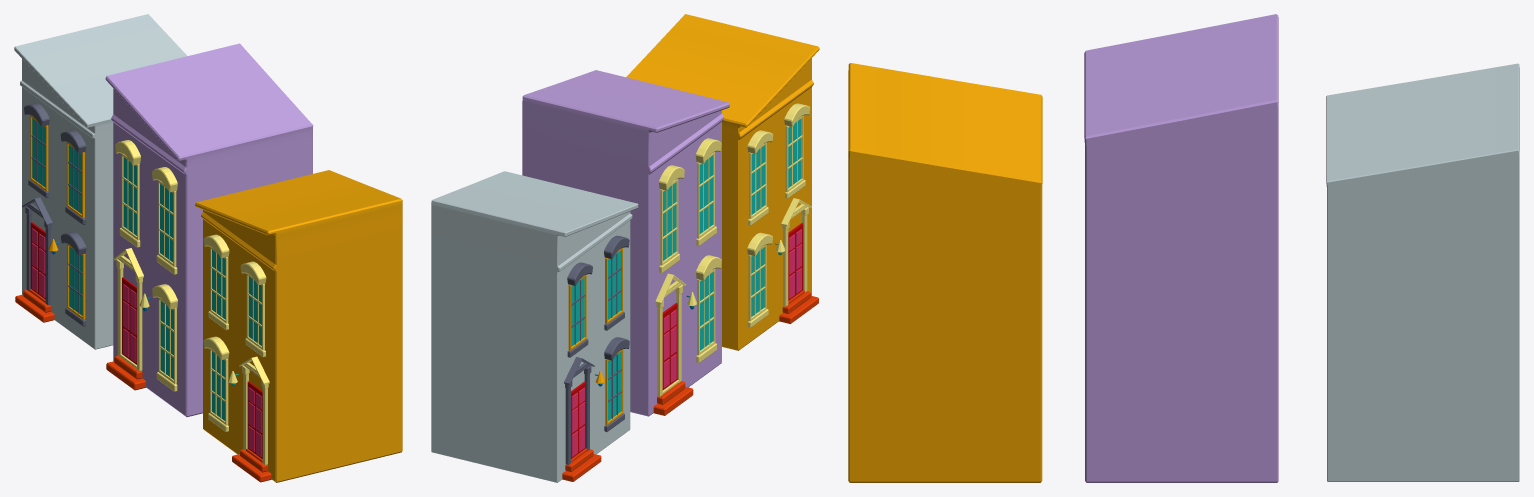
The model's file is Tim's house(RedoUVs).fbx.
3 renders of one model, left to right at view 1: azimuth 30°, elevation 25°; view 2: azimuth 150°, elevation 25°; view 3: azimuth 270°, elevation 25°, orthographic. The views are drawn at different scales.
Visible parts, largest first — view 1: polySurface202, polySurface162, polySurface122, polySurface163, polySurface169, polySurface174, polySurface214, polySurface129, polySurface134, polySurface203, polySurface123, polySurface209 (+15 smaller); view 2: polySurface122, polySurface162, polySurface202, polySurface163, polySurface174, polySurface169, polySurface214, polySurface129, polySurface203, polySurface123, polySurface134, polySurface209 (+13 smaller); view 3: polySurface162, polySurface202, polySurface122.
Boxes of the visible parts, bbox=[...] form: polySurface202: bbox=[195, 170, 402, 482]; polySurface162: bbox=[105, 43, 313, 416]; polySurface122: bbox=[14, 14, 187, 349]; polySurface163: bbox=[121, 153, 139, 240]; polySurface169: bbox=[158, 180, 176, 266]; polySurface174: bbox=[158, 298, 176, 383]; polySurface214: bbox=[210, 349, 228, 425]; polySurface129: bbox=[66, 142, 84, 218]; polySurface134: bbox=[67, 244, 85, 319]; polySurface203: bbox=[246, 274, 264, 350]; polySurface123: bbox=[30, 115, 48, 191]; polySurface209: bbox=[210, 247, 228, 323]; polySurface122: bbox=[431, 171, 638, 482]; polySurface162: bbox=[522, 70, 729, 416]; polySurface202: bbox=[626, 14, 819, 350]; polySurface163: bbox=[660, 179, 678, 265]; polySurface174: bbox=[697, 269, 715, 355]; polySurface169: bbox=[697, 152, 714, 238]; polySurface214: bbox=[748, 245, 766, 321]; polySurface129: bbox=[605, 248, 622, 323]; polySurface203: bbox=[785, 115, 803, 192]; polySurface123: bbox=[568, 274, 586, 350]; polySurface134: bbox=[605, 349, 623, 424]; polySurface209: bbox=[749, 142, 766, 218]; polySurface162: bbox=[1084, 14, 1278, 482]; polySurface202: bbox=[848, 63, 1042, 482]; polySurface122: bbox=[1326, 63, 1519, 481].
Bounding box in the file's own units: 5.51 × 11.03 × 17.51.
Materials: 3 (3 with a texture image).
